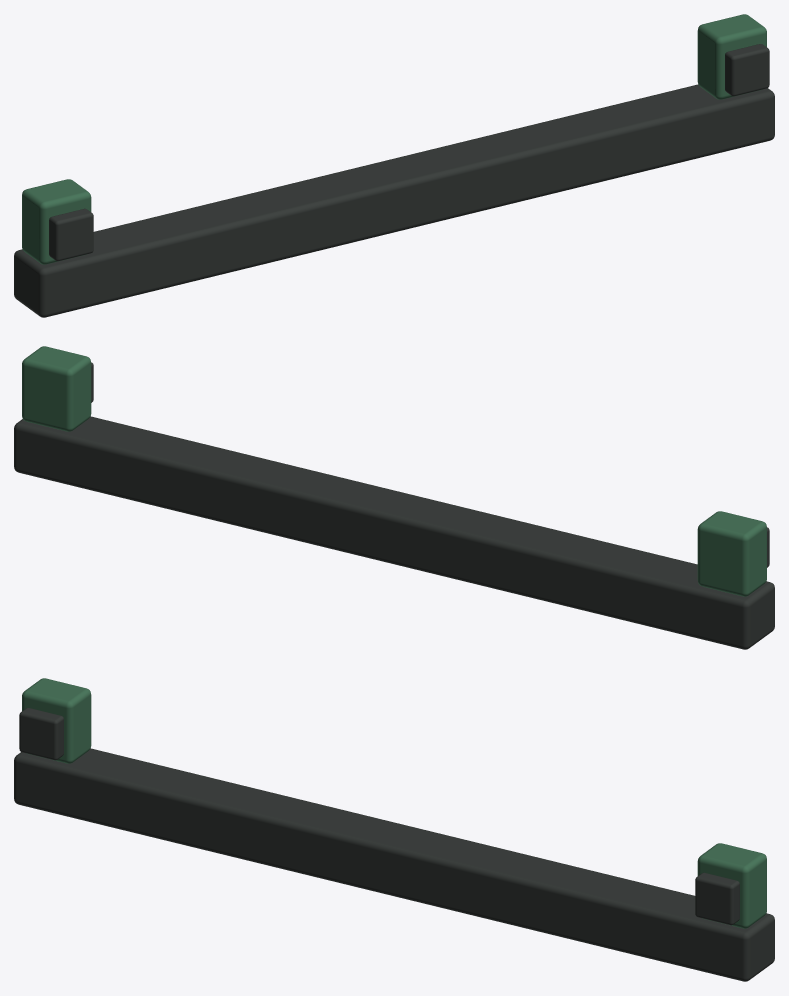
The model's file is sawmill-and-timber-yard-bed-end-stop-f2753959__31162.glb.
3 renders of one model, top to bottom at view 1: azimuth 30°, elevation 25°; view 2: azimuth 150°, elevation 25°; view 3: azimuth 330°, elevation 25°, orthographic.
Visible parts, largest first — view 1: bed-end-stop; view 2: bed-end-stop; view 3: bed-end-stop.
Part boxes in pixels (left/top/right/bottom): bed-end-stop: left=14, top=14, right=774, bottom=317; bed-end-stop: left=14, top=346, right=774, bottom=649; bed-end-stop: left=14, top=678, right=774, bottom=981.
Bounding box in the file's own units: 1.72 × 0.2501 × 0.1375.
